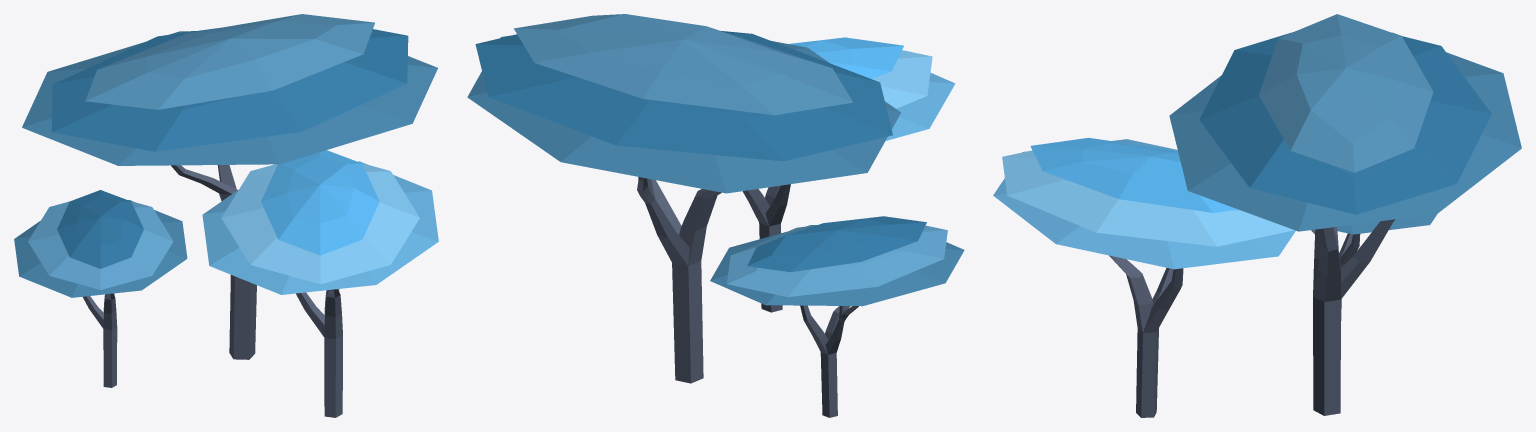
File: SP_Plant07.fbx
3 renders of one model, left to right at view 1: azimuth 30°, elevation 25°; view 2: azimuth 150°, elevation 25°; view 3: azimuth 270°, elevation 25°, orthographic. The views are drawn at different scales.
Visible parts, largest first — view 1: SP_Plant07; view 2: SP_Plant07; view 3: SP_Plant07.
Boxes of the visible parts, x1,y1,x2,y2 form: SP_Plant07: (14, 14, 438, 417); SP_Plant07: (467, 14, 964, 417); SP_Plant07: (993, 14, 1521, 417).
Bounding box in the file's own units: 52.35 × 37.98 × 53.54.
Materials: 1 (1 with a texture image).
